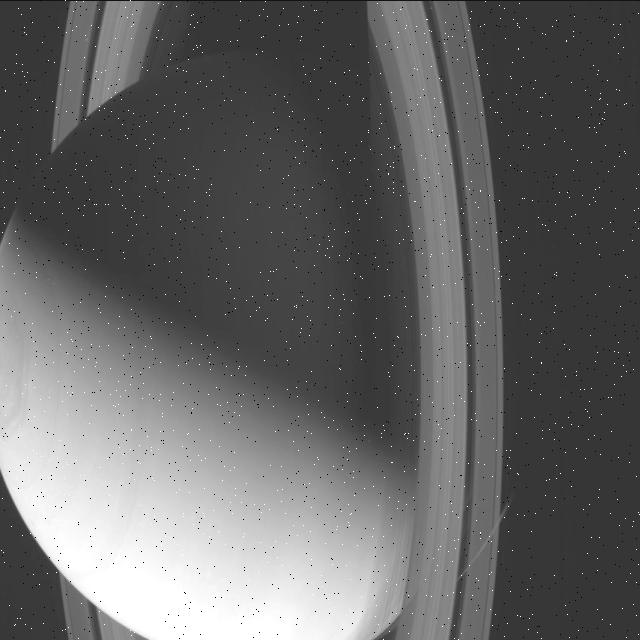Saturn: (0, 0, 506, 640)
